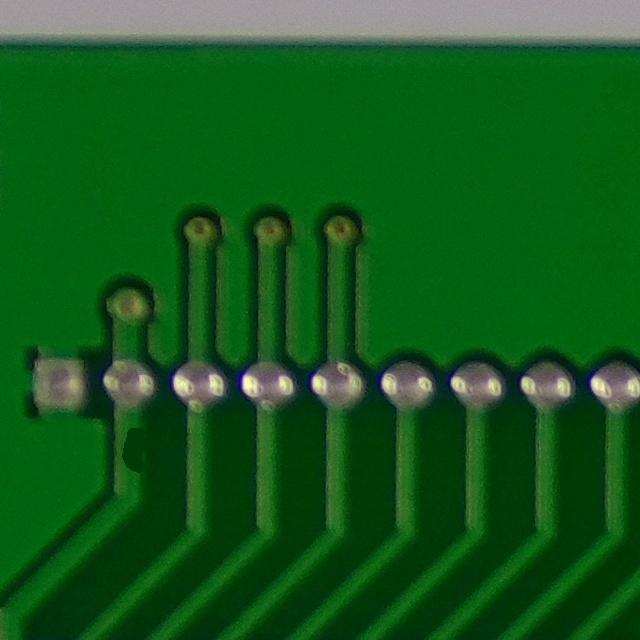mouse_bite: (106, 417, 157, 482)
